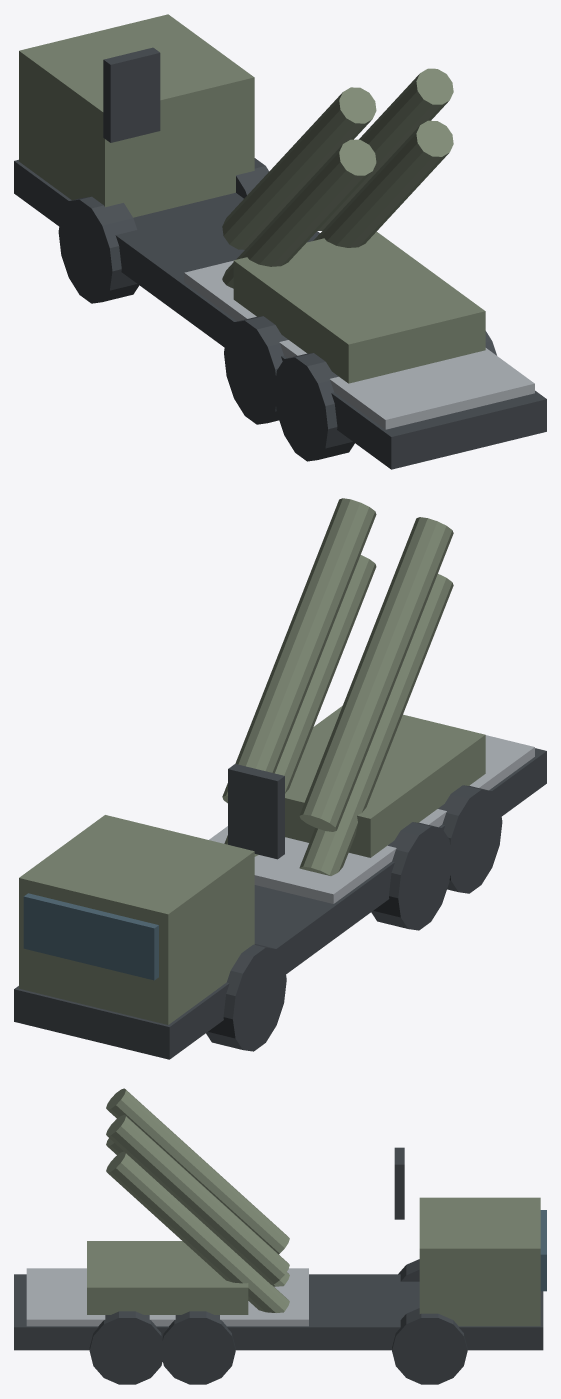
Rendered from sam_launcher.glb.
3 renders of one model, top to bottom at view 1: azimuth 30°, elevation 25°; view 2: azimuth 150°, elevation 25°; view 3: azimuth 270°, elevation 25°, orthographic. The views are drawn at different scales.
Parts seen in each view (by area): view 1: cab, mount, chassis, bed, canister.001, canister, canister.002, wheel, wheel.002, wheel.001, radar, canister.003 (+1 smaller); view 2: cab, chassis, canister.001, mount, canister.003, cabglass, canister, bed, wheel.001, wheel, wheel.002, radar (+1 smaller); view 3: cab, chassis, mount, canister.003, bed, canister.002, canister.001, wheel.003, wheel.004, wheel.005, radar, cabglass (+1 smaller).
Part boxes in pixels (x1,y1,x2,y2): cab: [19, 14, 254, 217]; mount: [233, 231, 485, 383]; chassis: [14, 159, 546, 469]; bed: [184, 260, 534, 429]; canister.001: [222, 87, 376, 249]; canister: [222, 139, 376, 288]; canister.002: [313, 120, 453, 247]; wheel: [58, 196, 139, 303]; wheel.002: [274, 353, 354, 461]; wheel.001: [224, 316, 288, 424]; radar: [103, 47, 160, 142]; canister.003: [318, 68, 453, 230]; cab: [19, 815, 254, 1024]; chassis: [14, 748, 546, 1059]; canister.001: [299, 517, 453, 831]; mount: [285, 706, 485, 857]; canister.003: [222, 498, 376, 803]; cabglass: [23, 893, 158, 980]; canister: [299, 574, 453, 875]; bed: [209, 735, 534, 903]; wheel.001: [371, 822, 451, 930]; wheel: [206, 944, 286, 1051]; wheel.002: [438, 785, 502, 893]; radar: [228, 764, 284, 859]; cab: [419, 1197, 540, 1326]; chassis: [14, 1274, 543, 1350]; mount: [87, 1241, 248, 1314]; canister.003: [106, 1115, 289, 1284]; bed: [26, 1268, 308, 1326]; canister.002: [106, 1151, 289, 1312]; canister.001: [106, 1088, 289, 1254]; wheel.003: [392, 1308, 467, 1384]; wheel.004: [160, 1311, 235, 1384]; wheel.005: [89, 1311, 164, 1384]; radar: [394, 1147, 404, 1219]; cabglass: [540, 1210, 546, 1291].
Bounding box in the file's own units: 2.8 × 5.51 × 10.58.
